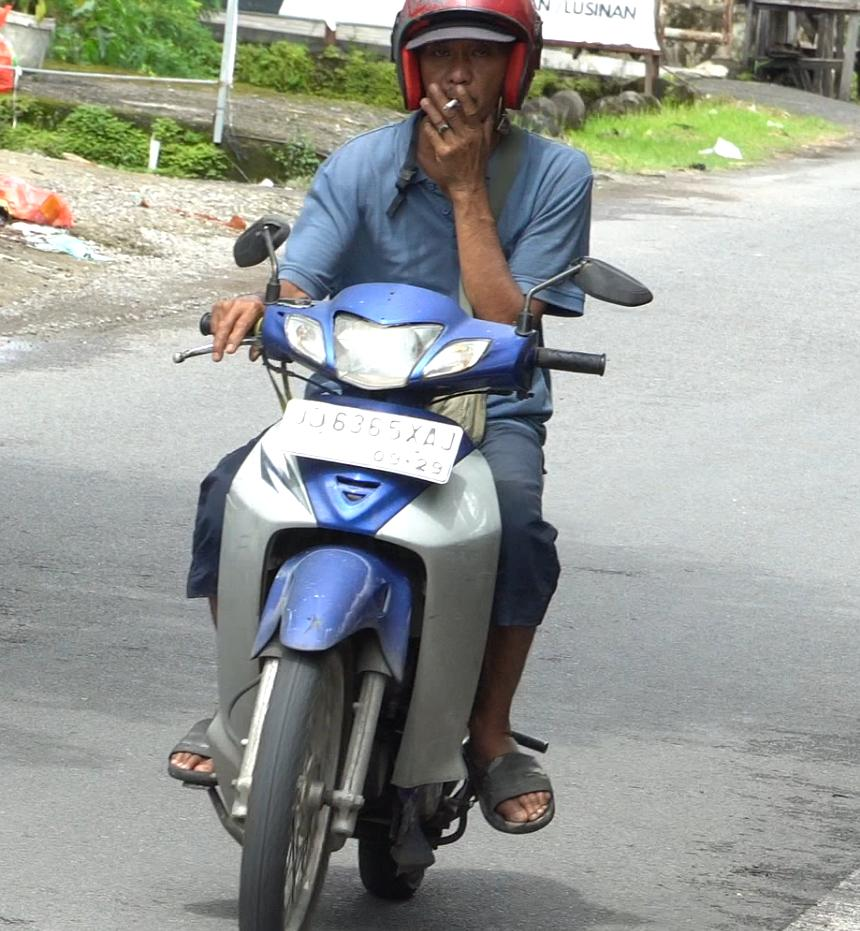number-plate: (278, 396, 462, 487)
